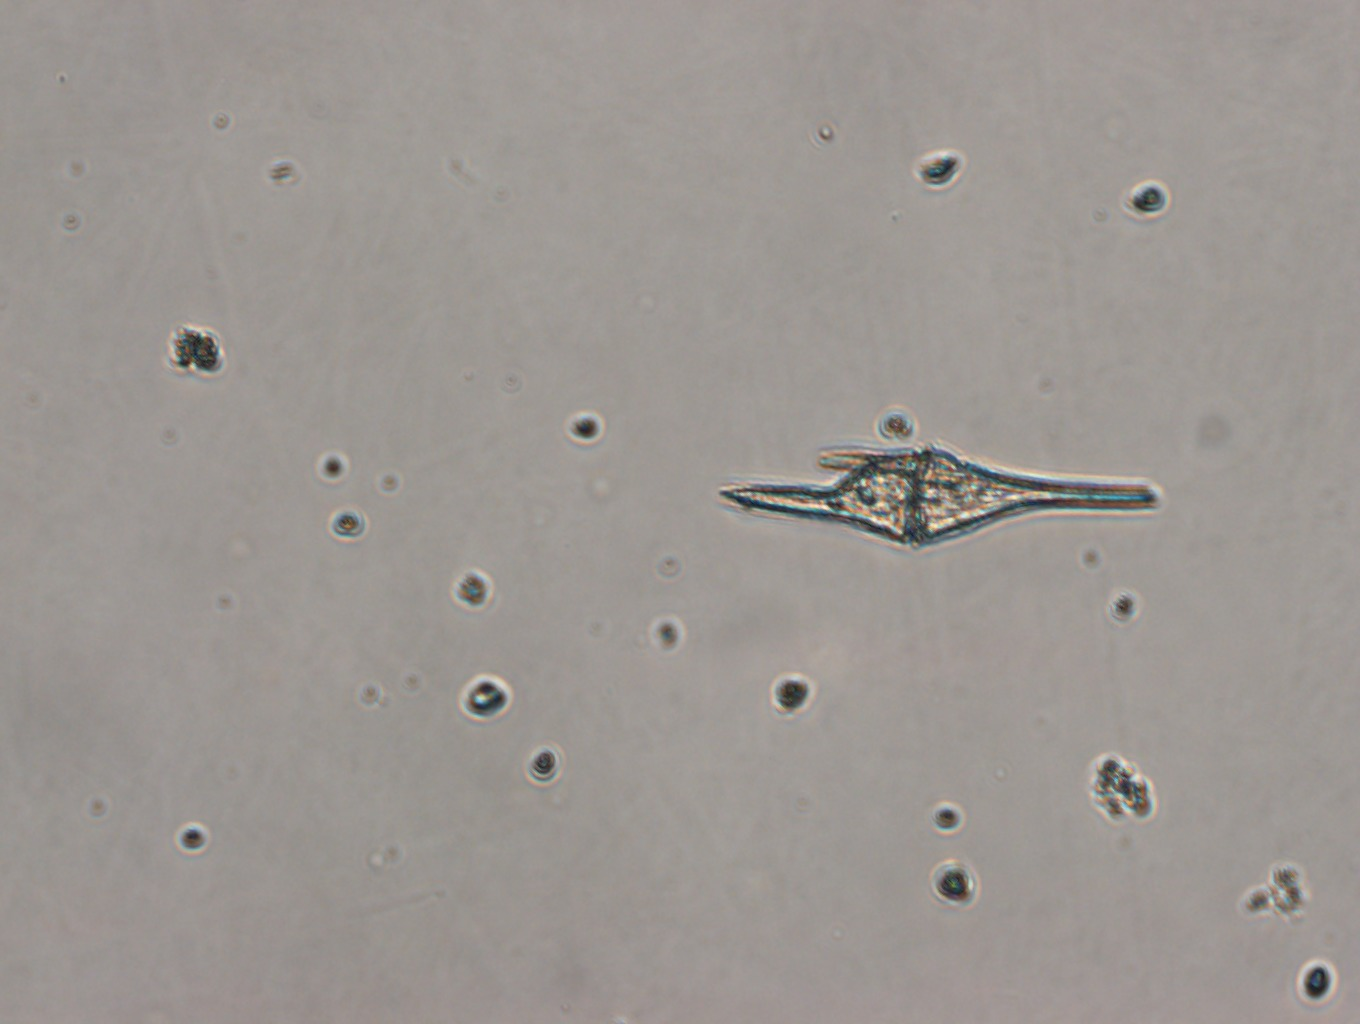ceratium furca: (713, 443, 1163, 554)
